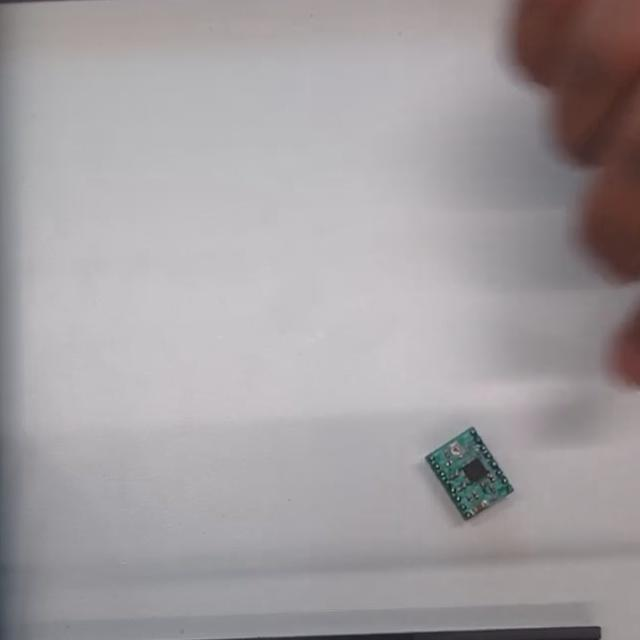Chip: (425, 428, 518, 523)
